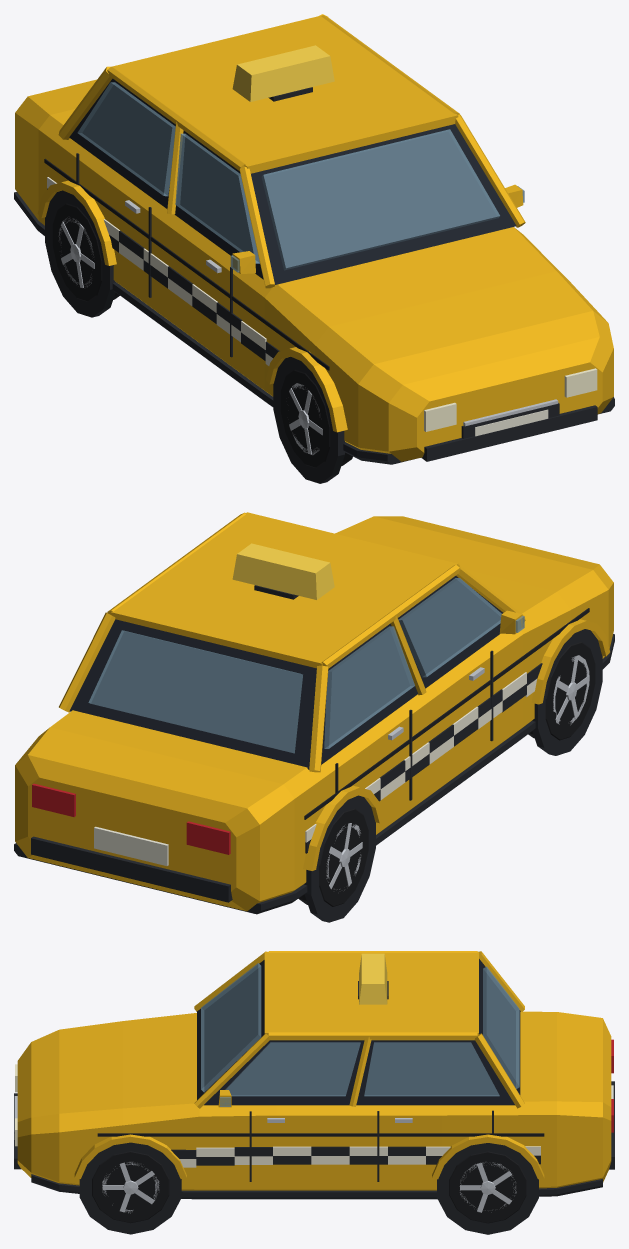
The model's file is CAR_05.obj.
3 renders of one model, top to bottom at view 1: azimuth 30°, elevation 25°; view 2: azimuth 150°, elevation 25°; view 3: azimuth 270°, elevation 25°, orthographic. The views are drawn at different scales.
Parts seen in each view (by area): view 1: body, cabin, glass, fascia, wheel_FL_arch, taxi_sign, taxi_checker, wheel_RL_arch, wheel_FL, wheel_RL, body_detail, lights (+1 smaller); view 2: body, cabin, glass, fascia, taxi_checker, wheel_RL_arch, taxi_sign, wheel_FL_arch, wheel_RL, wheel_FL, body_detail, lights; view 3: body, cabin, glass, taxi_checker, wheel_RR, wheel_FR, wheel_FR_arch, wheel_RR_arch, body_detail, taxi_sign, fascia.
Part boxes in pixels (<box>): body: <box>14,79,614,464</box>; cabin: <box>58,14,525,288</box>; glass: <box>77,82,499,270</box>; fascia: <box>421,399,597,461</box>; wheel_FL_arch: <box>265,347,347,483</box>; taxi_sign: <box>232,45,334,101</box>; taxi_checker: <box>47,177,279,365</box>; wheel_RL_arch: <box>37,180,116,317</box>; wheel_FL: <box>280,369,352,468</box>; wheel_RL: <box>52,203,119,301</box>; body_detail: <box>44,153,329,370</box>; lights: <box>424,368,597,431</box>; body: <box>14,516,614,914</box>; cabin: <box>59,512,525,772</box>; glass: <box>88,578,501,753</box>; fascia: <box>31,826,232,902</box>; taxi_checker: <box>305,663,542,853</box>; wheel_RL_arch: <box>303,785,383,922</box>; taxi_sign: <box>232,543,334,599</box>; wheel_FL_arch: <box>531,619,609,755</box>; wheel_RL: <box>298,808,368,906</box>; wheel_FL: <box>528,642,595,740</box>; body_detail: <box>304,608,589,819</box>; lights: <box>32,783,230,854</box>; body: <box>17,1011,611,1199</box>; cabin: <box>194,951,524,1108</box>; glass: <box>201,963,519,1096</box>; taxi_checker: <box>171,1146,540,1167</box>; wheel_RR: <box>449,1151,526,1223</box>; wheel_FR: <box>92,1151,169,1223</box>; wheel_FR_arch: <box>74,1134,186,1234</box>; wheel_RR_arch: <box>432,1134,544,1234</box>; body_detail: <box>97,1110,544,1181</box>; taxi_sign: <box>358,953,388,1004</box>; fascia: <box>14,1081,614,1169</box>.
Bounding box in the file's own units: 2.04 × 1.86 × 4.71.
